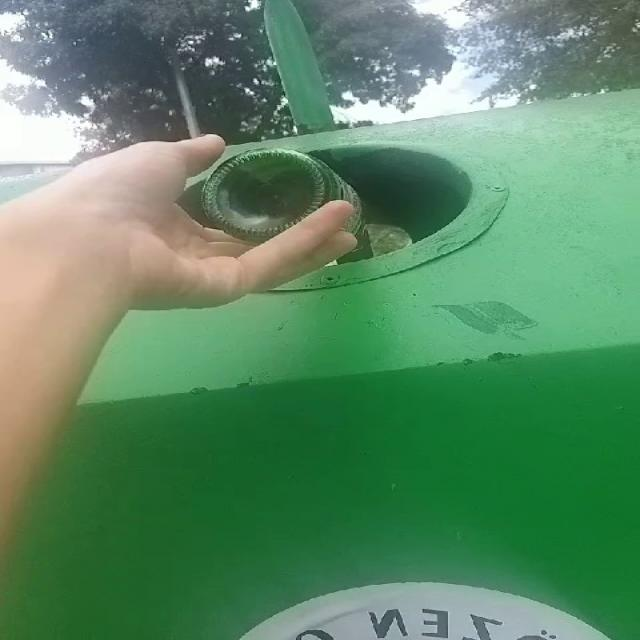glass: (201, 148, 373, 263)
